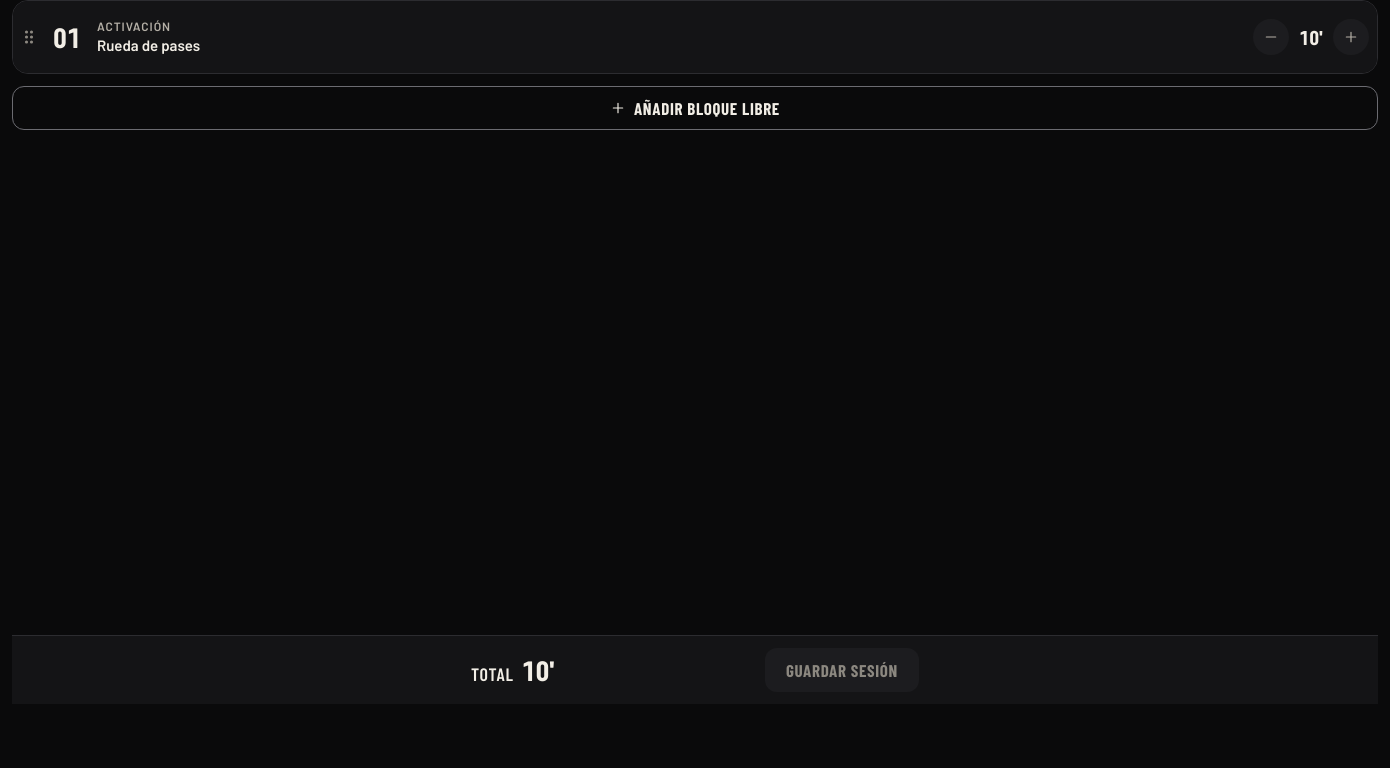
Scenario: PracticeBuilder · editar una fila › un ítem con ejercicio no deja cambiar el título: es el del ejercicio
The width and height of the screenshot is (1390, 768).
Click the button "Activación Rueda de pases".
click(134, 26)  # box x1=97 y1=15 x2=1245 y2=59
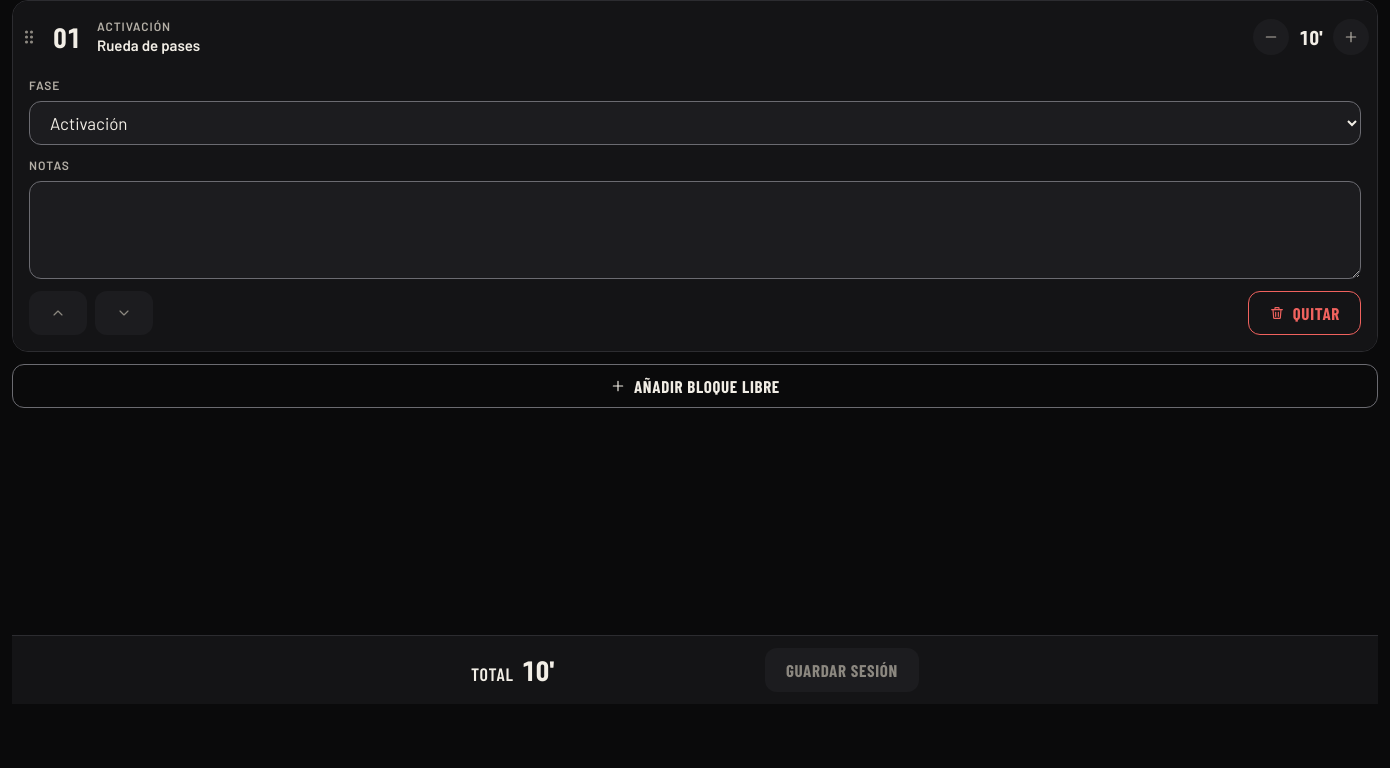
Expected: the dropdown labelled "Fase" is shown, x1=29 y1=101 x2=1361 y2=145
Expected: the text box labelled "Notas" is shown, x1=29 y1=181 x2=1361 y2=279
